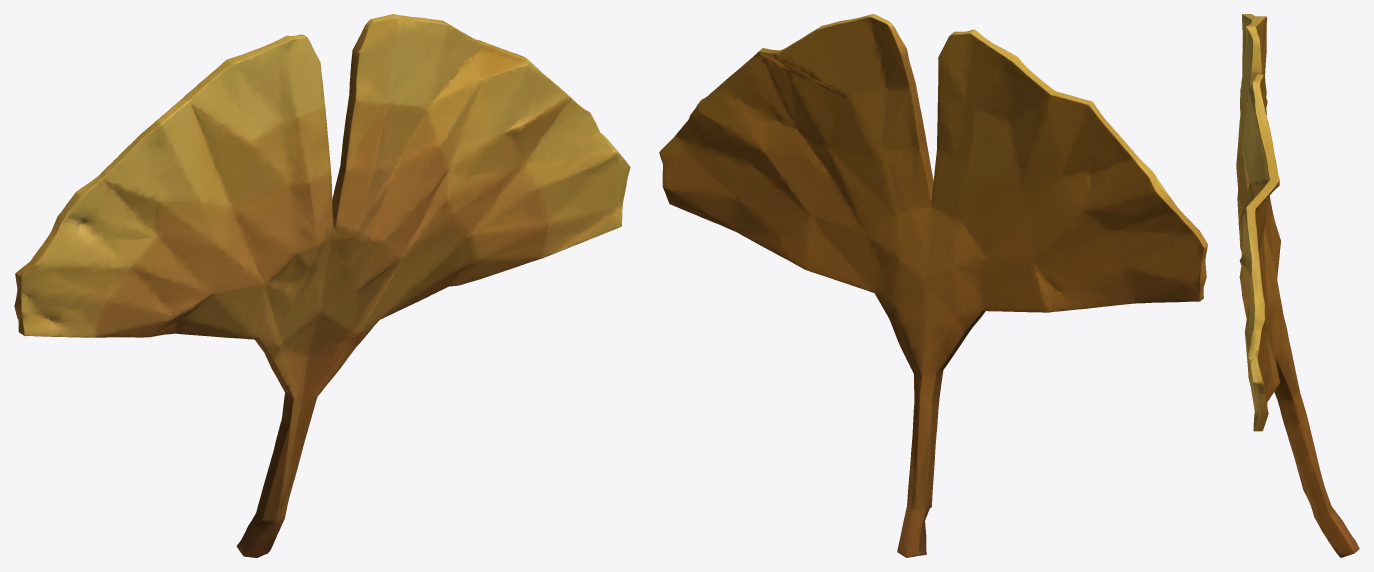
Rendered from ginkgo.glb.
3 views of the same model, side by side, from view 1: azimuth 30°, elevation 25°; view 2: azimuth 150°, elevation 25°; view 3: azimuth 270°, elevation 25° (orthographic). The views are drawn at different scales.
Visible parts, largest first — view 1: tripo_node_a2ef6ca7-ecd0-4df2-9a38-6f7c9d186a8d; view 2: tripo_node_a2ef6ca7-ecd0-4df2-9a38-6f7c9d186a8d; view 3: tripo_node_a2ef6ca7-ecd0-4df2-9a38-6f7c9d186a8d.
Part boxes in pixels (x1,y1,x2,y2): tripo_node_a2ef6ca7-ecd0-4df2-9a38-6f7c9d186a8d: (14, 14, 630, 557); tripo_node_a2ef6ca7-ecd0-4df2-9a38-6f7c9d186a8d: (659, 14, 1207, 557); tripo_node_a2ef6ca7-ecd0-4df2-9a38-6f7c9d186a8d: (1236, 14, 1359, 557).
Bounding box in the file's own units: 1 × 0.8715 × 0.1876.
Materials: 1 (1 with a texture image).
